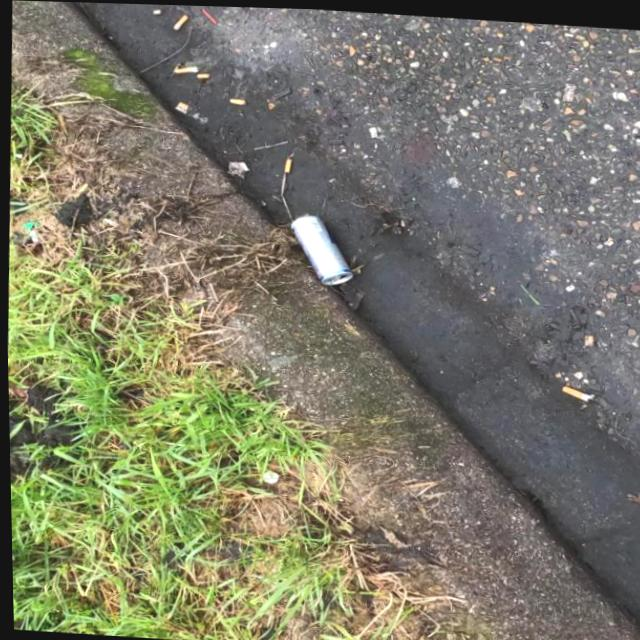Can-Metal: (285, 211, 354, 287)
Plastic: (17, 219, 38, 243)
